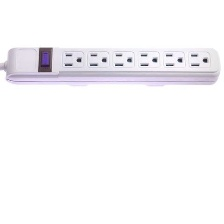three_eye_plug: (3, 44, 223, 87)
